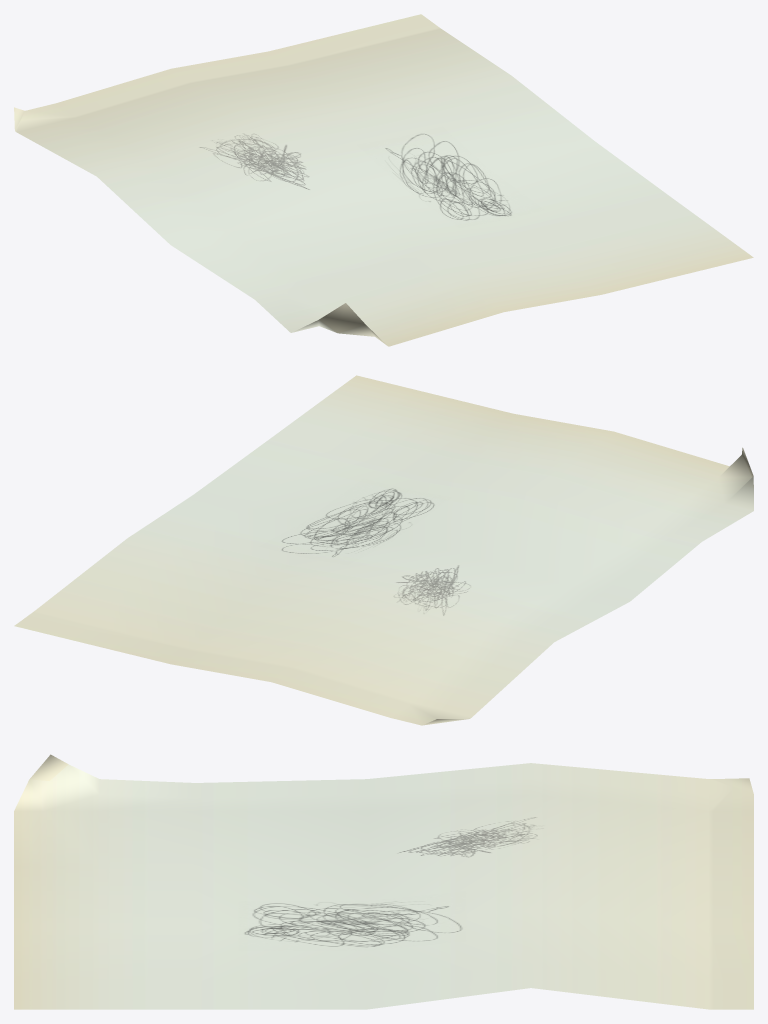
File: papel_dibujocontextura.fbx
The picture shows the model from 3 angles, top to bottom: view 1: azimuth 30°, elevation 25°; view 2: azimuth 150°, elevation 25°; view 3: azimuth 270°, elevation 25°; orthographic projection. The views are drawn at different scales.
Parts seen in each view (by area): view 1: pPlane1; view 2: pPlane1; view 3: pPlane1.
Boxes of the visible parts, <box> form: pPlane1: <box>14,14,753,346</box>; pPlane1: <box>14,375,753,725</box>; pPlane1: <box>14,754,753,1009</box>.
Size of the model in its own units: 6.12 by 0.5278 by 8.3.
Materials: 1 (1 with a texture image).
